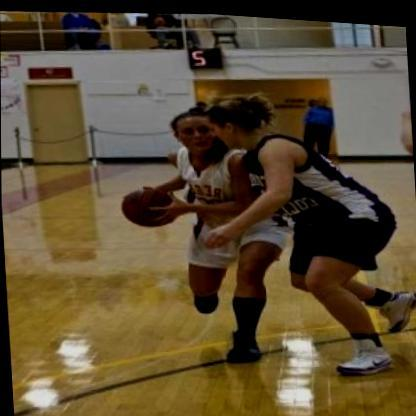basketball: (119, 182, 178, 227)
